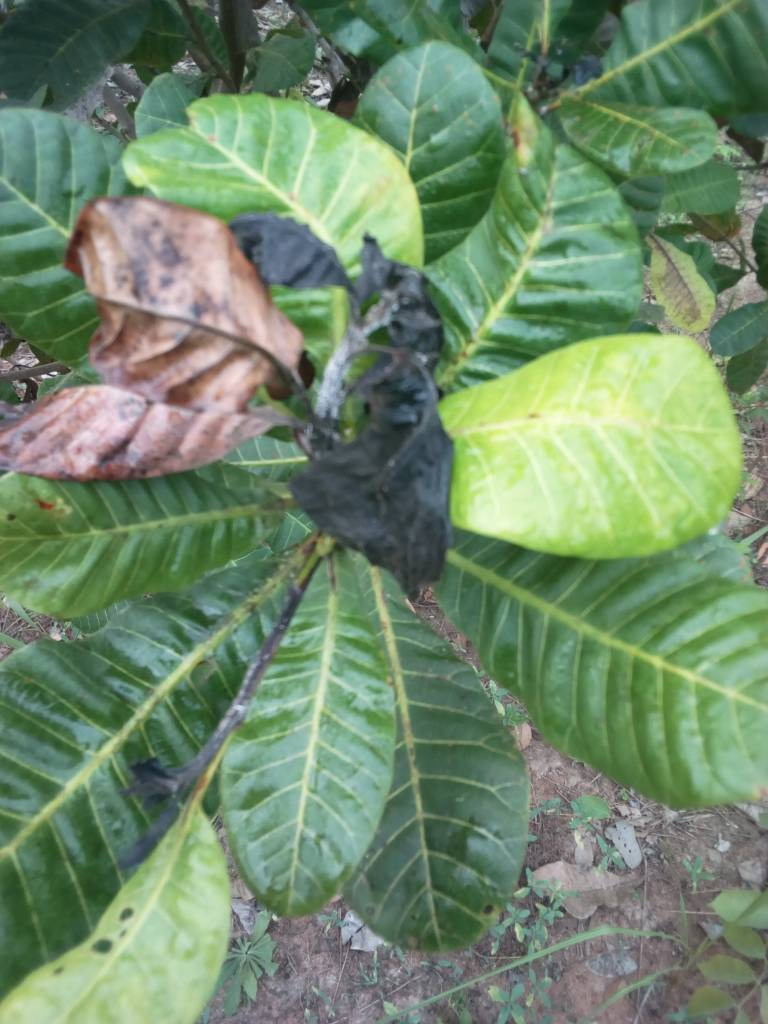Die-black: (2, 174, 329, 614), (257, 200, 467, 611)
